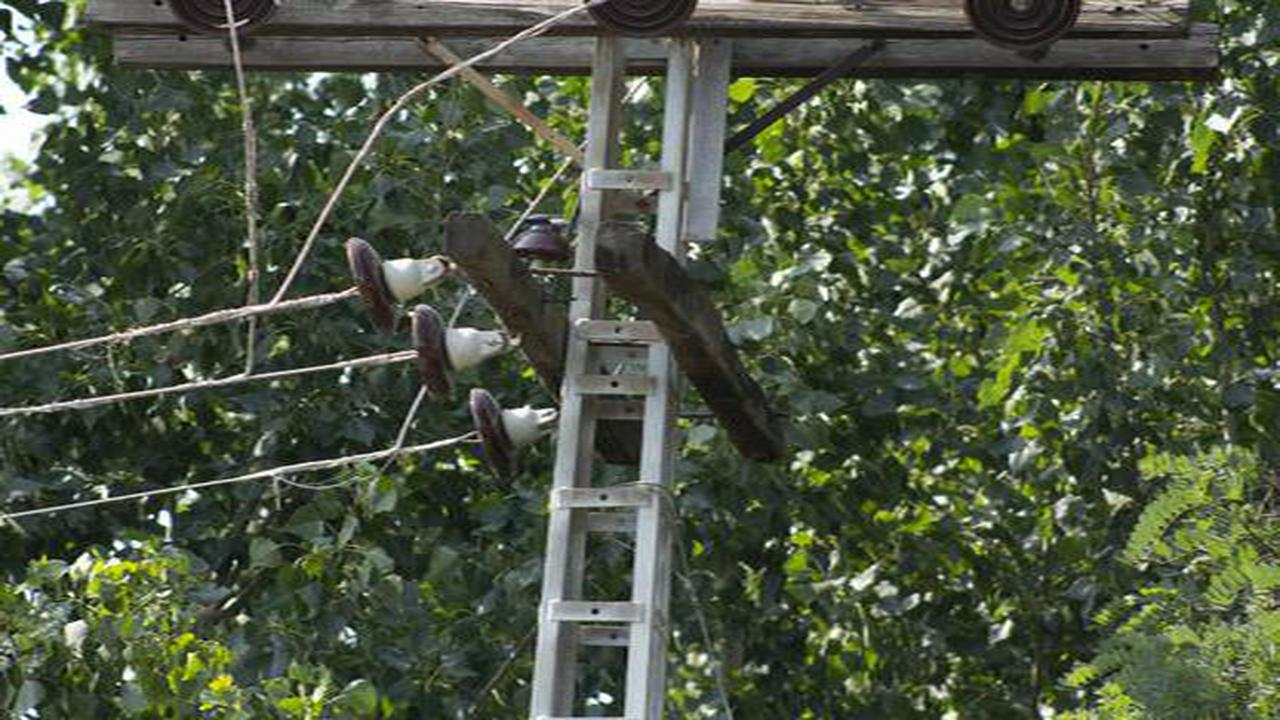insulator_disc: (338, 229, 464, 315), (397, 321, 517, 408), (448, 397, 560, 485)
insulator_pin: (511, 206, 575, 270)
